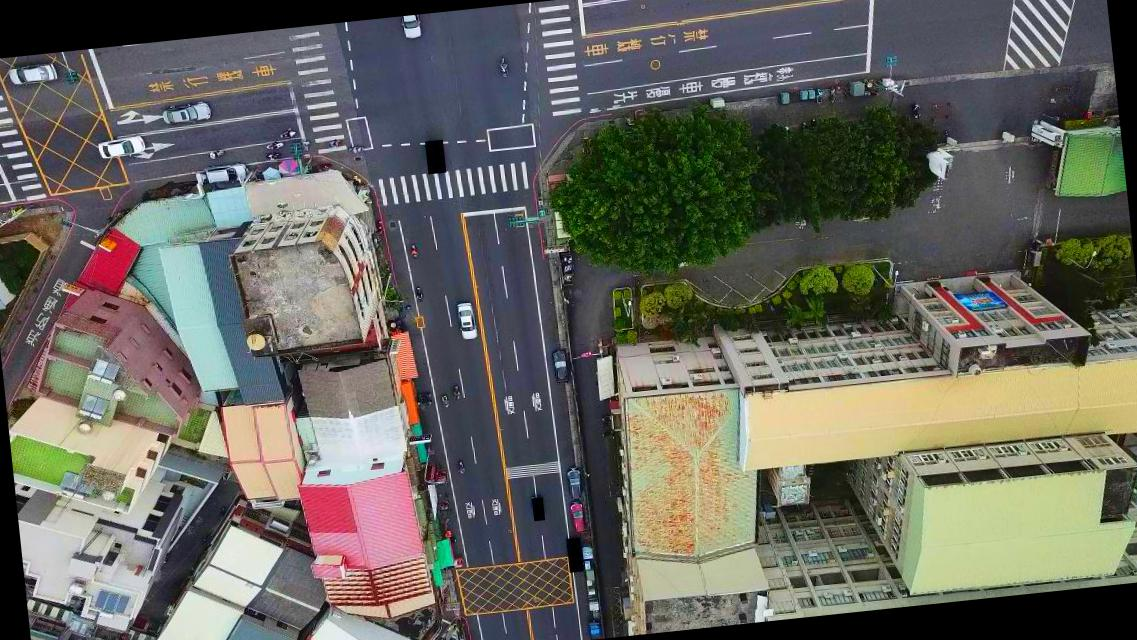vehicle: (7, 60, 59, 86), (96, 133, 148, 159), (161, 100, 213, 125), (204, 161, 249, 186), (456, 298, 479, 340), (551, 348, 572, 386), (566, 465, 584, 500), (400, 14, 424, 40), (570, 498, 587, 534)
